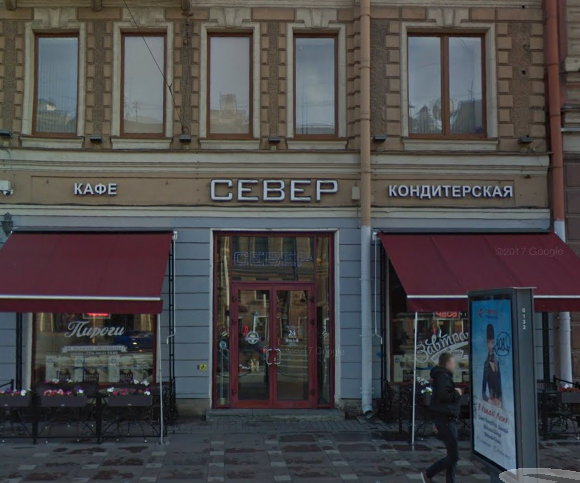door: (229, 282, 311, 411)
signboard: (63, 179, 517, 211)
window: (29, 311, 160, 388), (409, 31, 484, 141), (210, 236, 329, 283), (292, 34, 338, 140), (123, 33, 165, 135), (34, 37, 78, 132), (212, 35, 251, 135)
